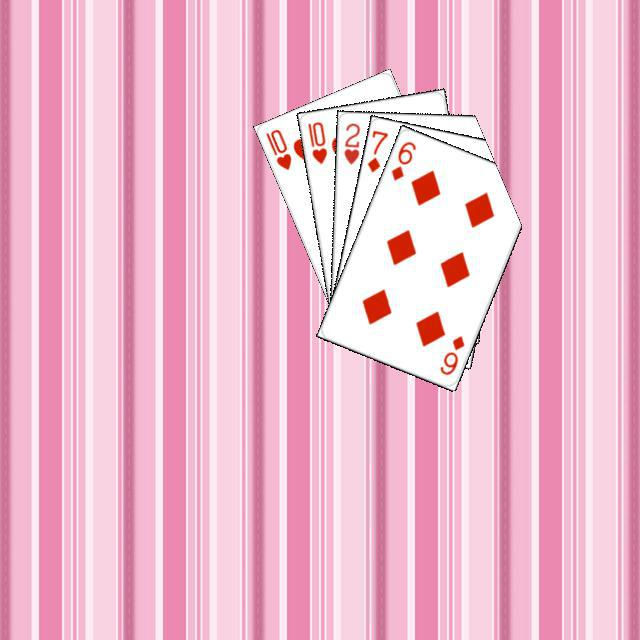10h: (261, 124, 293, 172), (303, 117, 329, 166)
2h: (339, 118, 362, 166)
6d: (386, 136, 418, 182), (435, 331, 466, 377)
7d: (362, 126, 390, 174)
